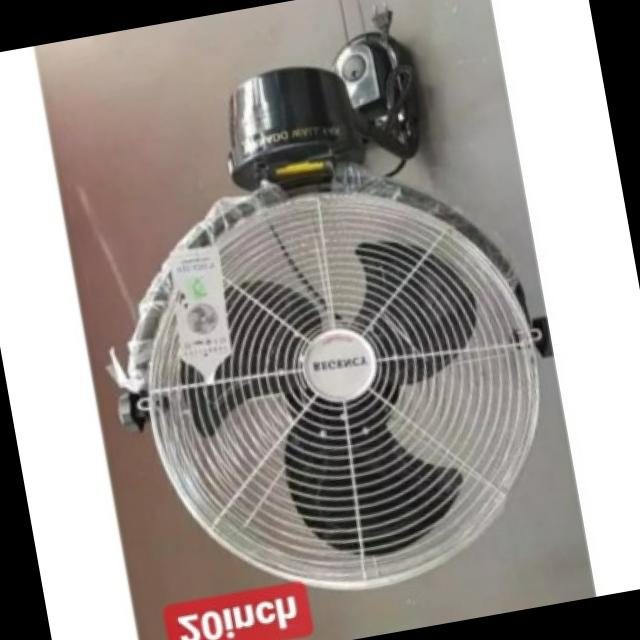fan: (65, 27, 578, 631)
